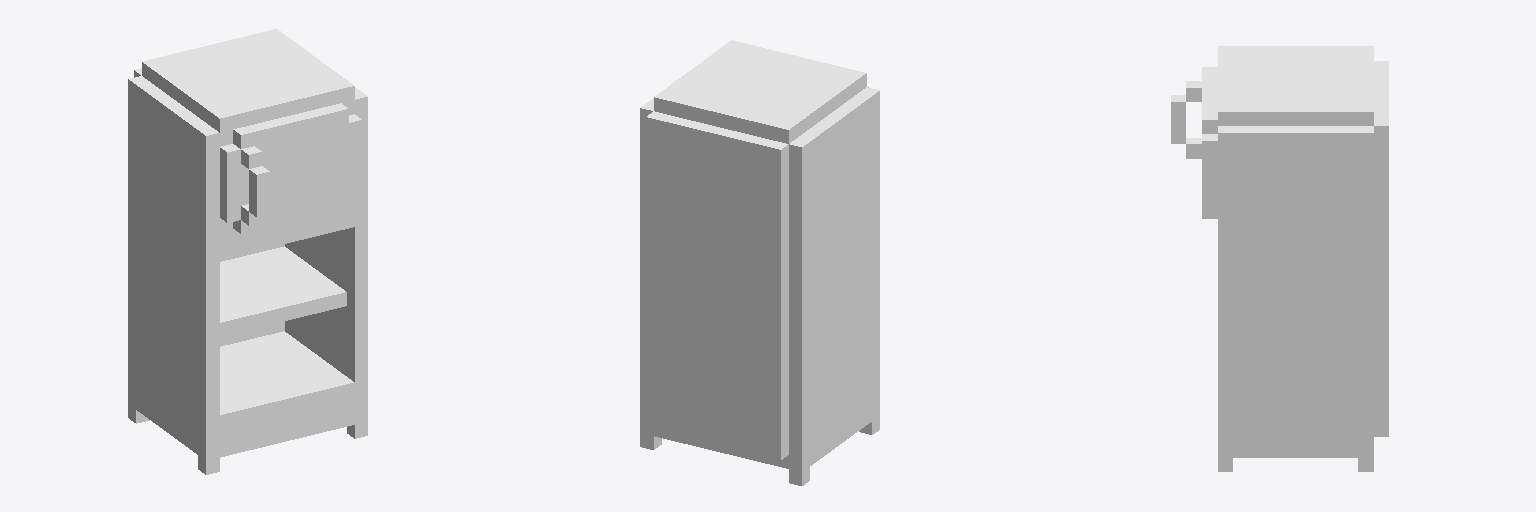
The model's file is fridge-1.obj.
3 views of the same model, side by side, from view 1: azimuth 30°, elevation 25°; view 2: azimuth 150°, elevation 25°; view 3: azimuth 270°, elevation 25° (orthographic).
Visible parts, largest first — view 1: object 1; view 2: object 1; view 3: object 1.
Boxes of the visible parts, x1=… form: object 1: x1=128, y1=29, x2=367, y2=474; object 1: x1=640, y1=40, x2=879, y2=485; object 1: x1=1171, y1=46, x2=1388, y2=471.
Bounding box in the file's own units: 1.2 × 2.5 × 1.4.